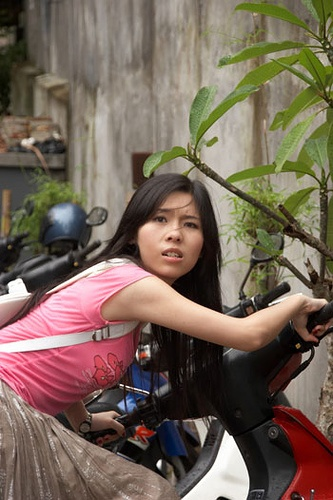head: (130, 172, 210, 282)
person: (1, 168, 326, 500)
